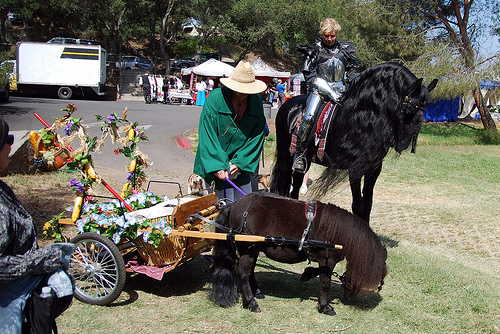horse: (269, 62, 440, 228), (208, 192, 388, 316)
